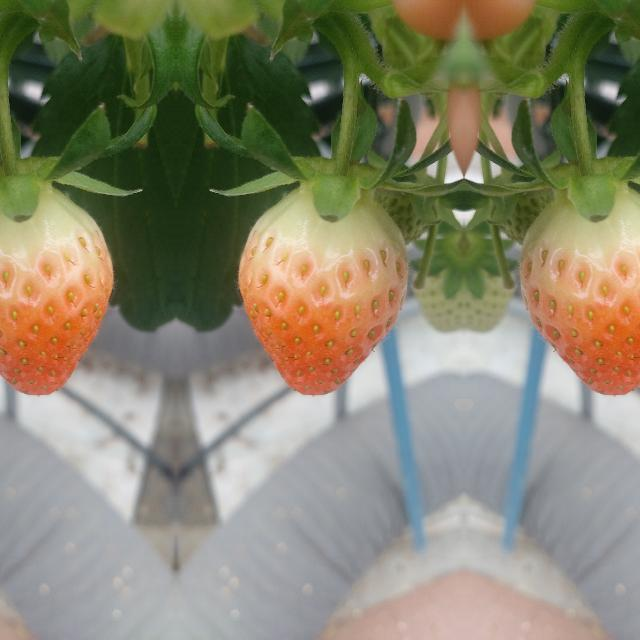Health_75: (237, 188, 407, 394), (519, 187, 640, 394), (0, 187, 113, 394)
